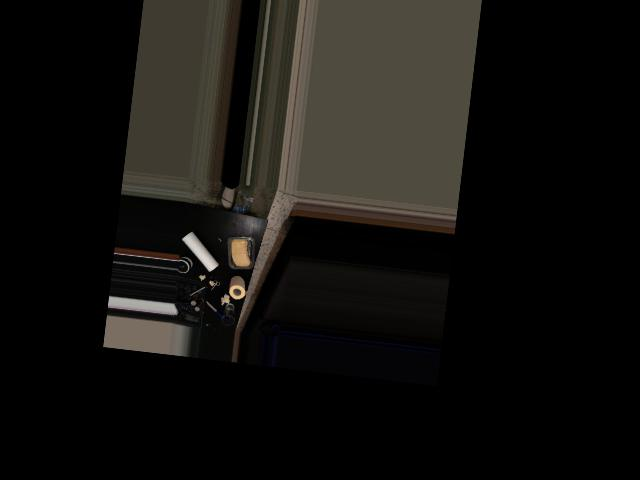cheese: (223, 230, 258, 272)
